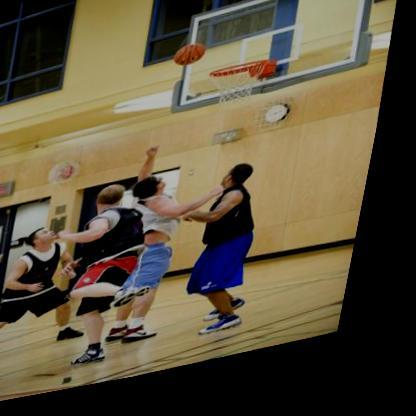basketball: (176, 49, 210, 75)
rim: (212, 69, 275, 91)
